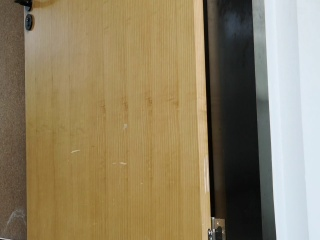room: (12, 1, 271, 240)
